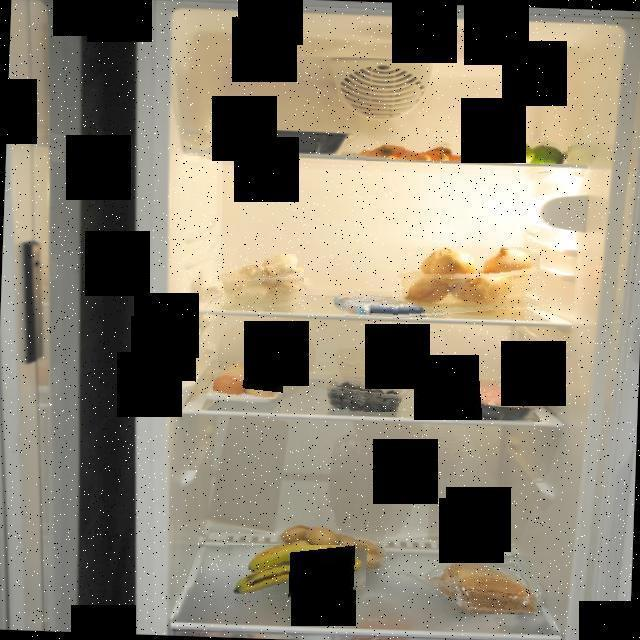banana: (224, 546, 368, 606)
blueberries: (320, 377, 406, 412)
bread: (434, 555, 538, 614)
carrot: (356, 136, 491, 161)
chocolate: (329, 294, 428, 318)
egg: (213, 360, 284, 400)
ground_beef: (414, 372, 541, 420)
lime: (484, 136, 568, 164)
mushrooms: (212, 254, 304, 306)
onion: (393, 248, 540, 320)
potato: (274, 518, 386, 569)
